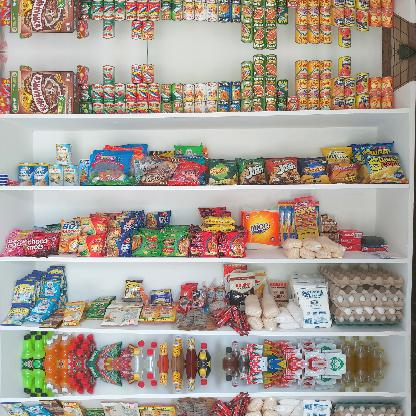Koko-Krunch: (10, 70, 78, 113), (9, 0, 79, 34)
